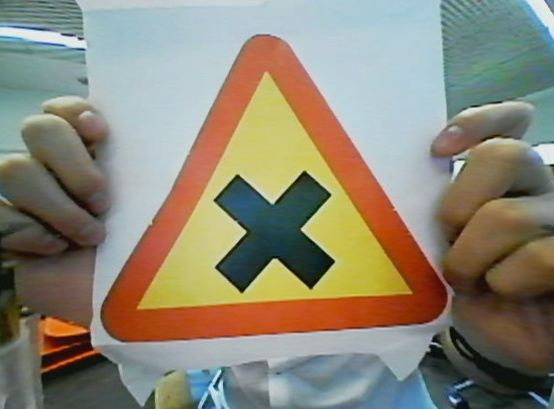junction: (88, 30, 468, 341)
